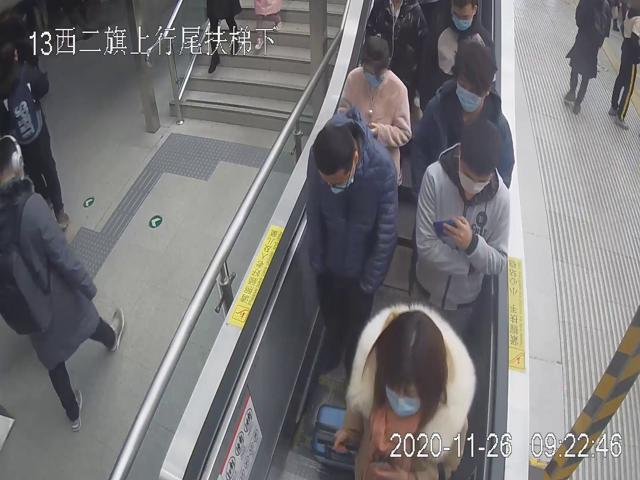person: (334, 299, 477, 480), (303, 110, 399, 375), (414, 117, 509, 328), (414, 40, 515, 193), (336, 32, 413, 194), (426, 2, 496, 87)
